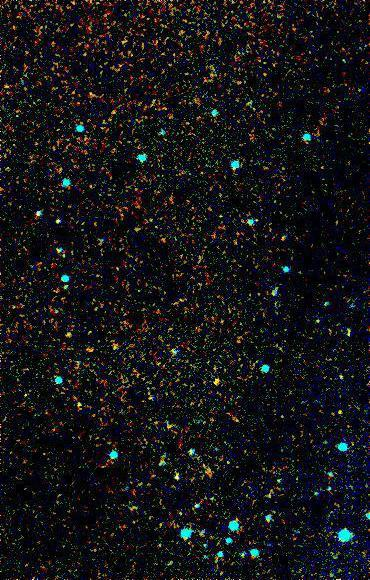star: (202, 368, 232, 398)
